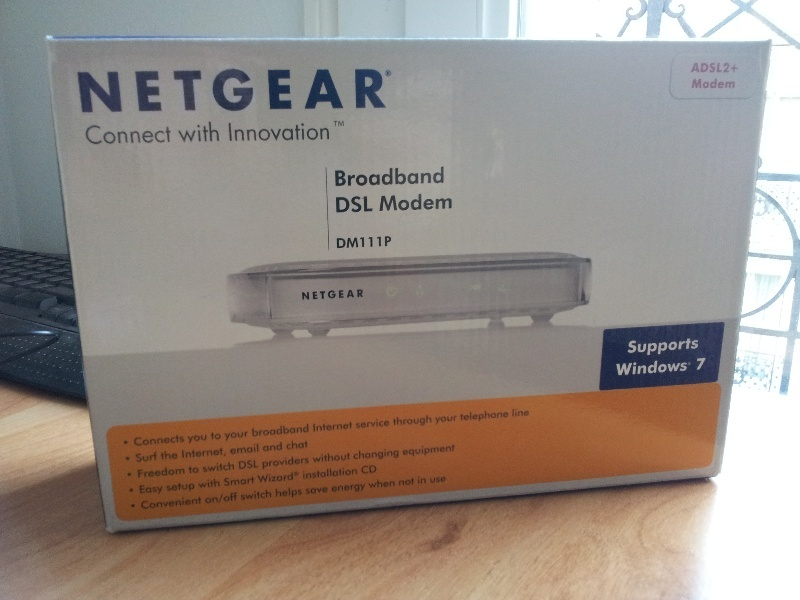text: (81, 69, 96, 113), (97, 69, 112, 113), (113, 69, 128, 113), (129, 69, 144, 113), (145, 69, 160, 113), (161, 69, 176, 113), (177, 69, 192, 113), (193, 69, 208, 113), (209, 69, 224, 113), (225, 69, 240, 113), (241, 69, 256, 113), (257, 69, 272, 113), (273, 69, 288, 113), (289, 69, 304, 113), (305, 69, 320, 113), (321, 69, 336, 113), (337, 69, 352, 113), (353, 69, 368, 113), (369, 69, 384, 113), (241, 120, 256, 143), (257, 120, 272, 143), (273, 120, 288, 143), (289, 120, 304, 143), (305, 120, 320, 143), (193, 121, 208, 143), (337, 167, 352, 187), (353, 167, 368, 187), (369, 167, 384, 187), (385, 167, 400, 187), (401, 167, 416, 187), (417, 167, 432, 187), (641, 337, 656, 357), (657, 337, 672, 357), (673, 337, 688, 357), (97, 125, 112, 145), (113, 125, 128, 145), (129, 125, 144, 145), (145, 125, 160, 145), (227, 120, 240, 143), (179, 121, 192, 143), (385, 193, 400, 212), (401, 193, 416, 212), (417, 193, 432, 212), (433, 193, 448, 212), (337, 196, 352, 213), (353, 196, 368, 213), (625, 359, 640, 376), (641, 359, 656, 376), (657, 359, 672, 376), (673, 359, 688, 376), (209, 121, 220, 143), (433, 167, 445, 187), (628, 337, 640, 357), (161, 125, 173, 145), (273, 454, 288, 470), (289, 454, 304, 470), (337, 236, 352, 250), (353, 236, 368, 250), (369, 236, 384, 250), (401, 414, 416, 428), (417, 414, 432, 428), (465, 410, 480, 424), (481, 410, 496, 424), (497, 410, 512, 424), (145, 465, 160, 479), (161, 465, 176, 479), (417, 444, 432, 458), (433, 444, 448, 458), (305, 466, 320, 480), (321, 466, 336, 480), (337, 466, 352, 480), (385, 448, 401, 461), (689, 337, 699, 357), (86, 125, 96, 145), (402, 444, 416, 458), (145, 434, 160, 447), (161, 434, 176, 447), (257, 424, 272, 437), (273, 424, 288, 437), (289, 424, 304, 437), (369, 417, 384, 430), (353, 448, 368, 461), (369, 448, 384, 461), (145, 497, 160, 510), (161, 497, 176, 510), (177, 497, 192, 510), (209, 492, 224, 505), (257, 489, 273, 501), (321, 120, 329, 143), (193, 447, 208, 459), (209, 447, 224, 459), (305, 289, 320, 301), (321, 289, 336, 301), (337, 289, 352, 301), (321, 421, 336, 433), (337, 421, 352, 433), (289, 438, 304, 450), (209, 461, 224, 473), (145, 485, 160, 497), (177, 482, 192, 494), (241, 489, 256, 501), (76, 69, 80, 113), (355, 417, 368, 430), (225, 492, 238, 505), (705, 63, 720, 74), (721, 63, 736, 74), (705, 78, 720, 89), (721, 78, 736, 89), (193, 434, 208, 445), (161, 449, 176, 460), (241, 444, 256, 455), (321, 452, 336, 463), (337, 452, 352, 463), (225, 476, 240, 487), (257, 472, 272, 483), (273, 472, 288, 483), (337, 483, 352, 494), (369, 478, 384, 489), (289, 487, 302, 499), (241, 476, 255, 487), (615, 359, 624, 376), (225, 431, 240, 441), (241, 460, 256, 470), (263, 454, 272, 470), (276, 487, 288, 499), (133, 434, 144, 447), (145, 451, 158, 462), (353, 483, 366, 494), (210, 431, 224, 441), (513, 409, 528, 418), (353, 289, 364, 301), (435, 415, 448, 425), (193, 497, 203, 510), (401, 478, 415, 487), (418, 476, 432, 485), (229, 444, 240, 455), (273, 441, 284, 452), (182, 447, 192, 459), (225, 461, 235, 473), (166, 482, 176, 494), (177, 434, 186, 447), (392, 414, 400, 428), (177, 465, 185, 479), (306, 487, 320, 495), (433, 476, 447, 484), (694, 78, 704, 89), (385, 478, 395, 489), (209, 479, 221, 488), (696, 358, 704, 371), (695, 63, 704, 74), (263, 441, 272, 452), (385, 236, 392, 250), (449, 444, 456, 458), (449, 415, 458, 425), (198, 479, 208, 488), (385, 69, 387, 113), (136, 451, 144, 462), (312, 452, 320, 463), (369, 464, 377, 475), (313, 421, 320, 433), (138, 465, 144, 479), (241, 431, 249, 441), (305, 454, 310, 470), (385, 417, 391, 430), (361, 464, 368, 475), (202, 461, 208, 473), (459, 410, 464, 424), (353, 466, 358, 480), (369, 196, 373, 213), (289, 472, 295, 483), (305, 424, 310, 437), (387, 72, 400, 77), (139, 485, 144, 497), (381, 193, 384, 212), (449, 193, 452, 212), (337, 120, 345, 127), (321, 487, 328, 495), (187, 434, 192, 445), (331, 483, 336, 494), (193, 465, 199, 474), (252, 424, 256, 437), (257, 444, 261, 455), (205, 492, 208, 505), (285, 438, 288, 450), (305, 438, 308, 450), (161, 485, 164, 497), (193, 482, 196, 494), (302, 466, 304, 480), (189, 465, 192, 474), (142, 497, 144, 510), (225, 447, 227, 459), (302, 289, 304, 301), (737, 63, 739, 74), (335, 167, 336, 187), (257, 460, 259, 470), (398, 478, 400, 487), (433, 414, 434, 428), (705, 358, 706, 371), (353, 421, 354, 433), (177, 449, 178, 460), (239, 460, 240, 470), (529, 409, 530, 418), (431, 476, 432, 484), (335, 120, 336, 127)
